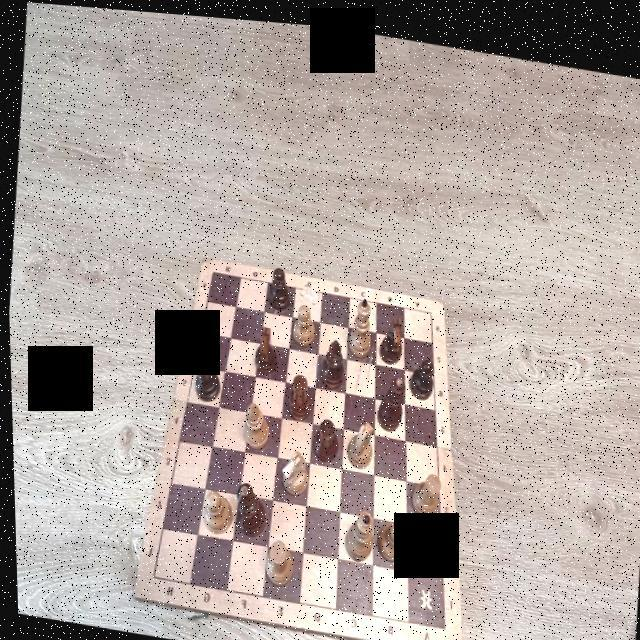chess-table-corners: (142, 566, 156, 584), (434, 612, 448, 628), (206, 262, 216, 274), (424, 299, 433, 311)
